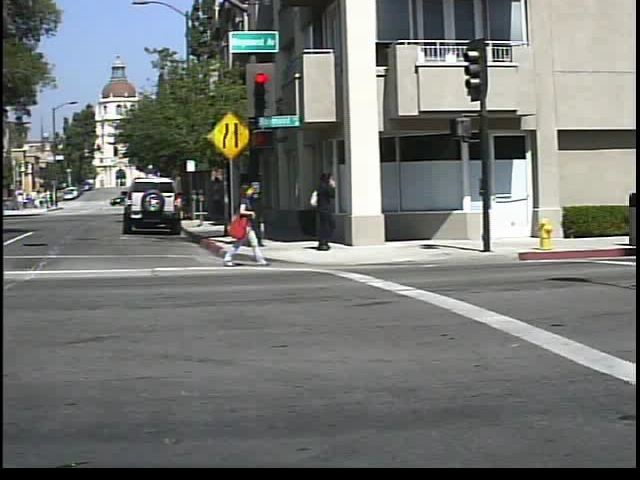person: (227, 177, 278, 269), (309, 168, 350, 254)
